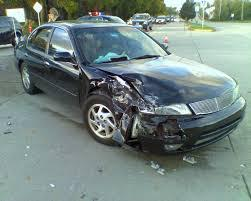bonnet-dent: (119, 63, 218, 99)
fender-dent: (88, 74, 139, 106)
front-bumper-dent: (141, 117, 215, 154)
